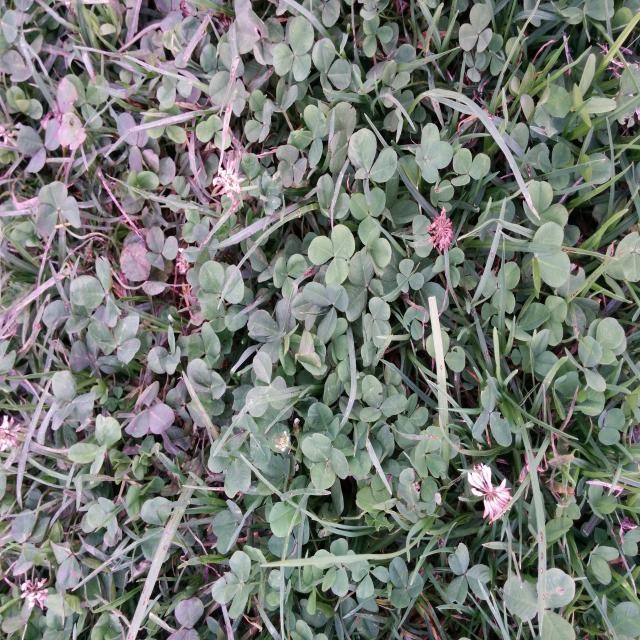Four Leaf Clover: (415, 124, 453, 183)
